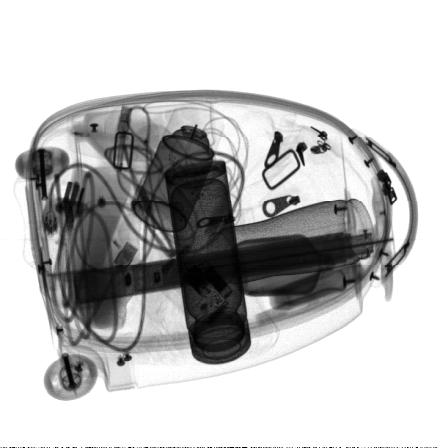Sprayer: (132, 107, 225, 231)
